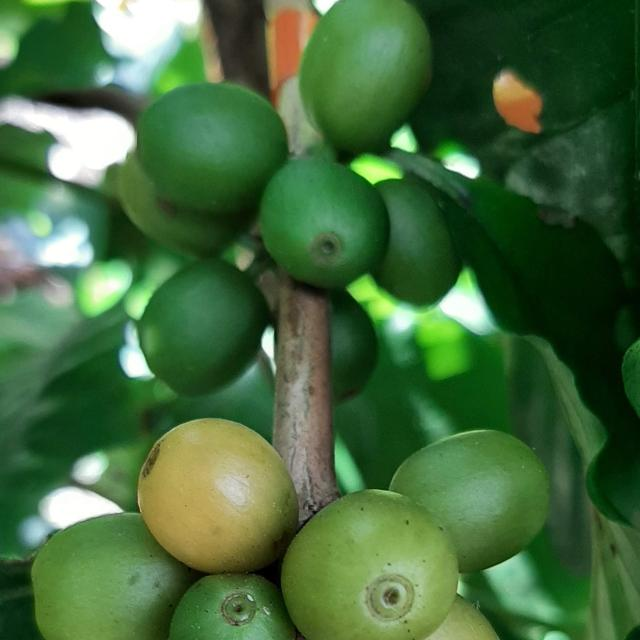green: (390, 430, 550, 573), (31, 514, 195, 640), (299, 0, 433, 153), (137, 82, 288, 214), (139, 260, 268, 396), (259, 157, 390, 289), (117, 151, 249, 257), (375, 174, 462, 306), (169, 575, 295, 640), (331, 290, 378, 403)
yellow: (282, 490, 459, 640), (137, 419, 298, 574), (425, 596, 500, 640)
